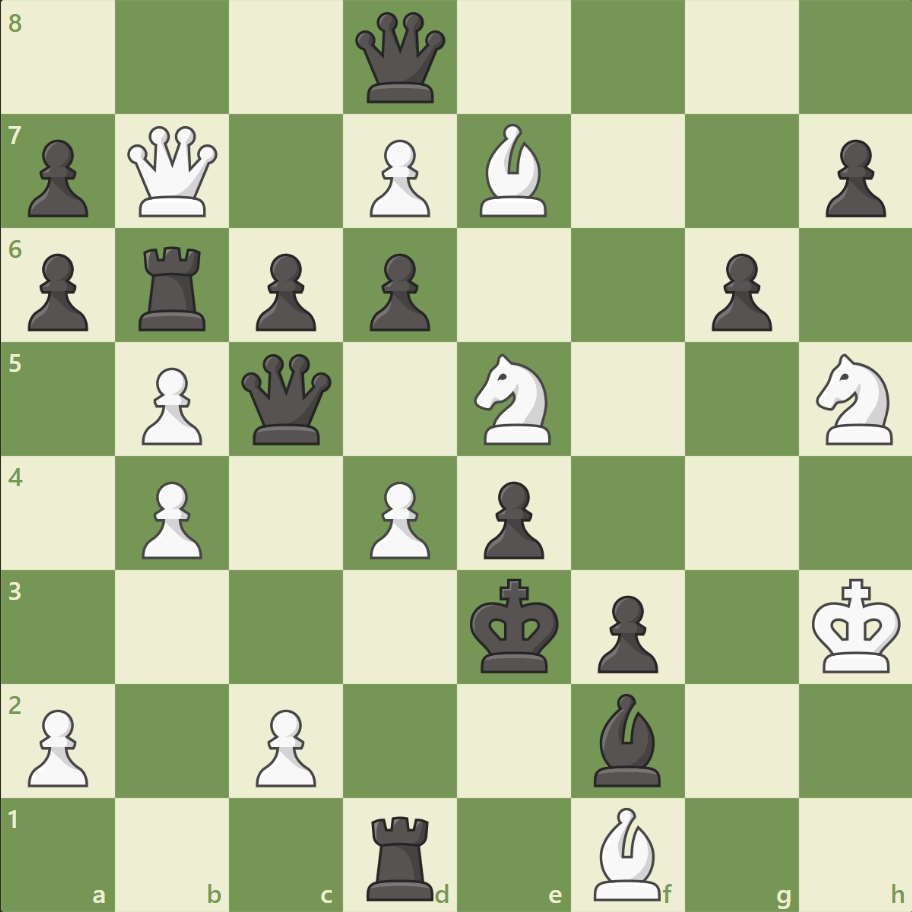B: (585, 801, 669, 904), (471, 120, 555, 222)
K: (806, 571, 906, 679)
N: (465, 348, 562, 450), (806, 348, 903, 450)
P: (133, 359, 208, 450), (133, 473, 208, 564), (20, 700, 95, 791), (247, 700, 322, 791), (361, 132, 435, 223), (361, 473, 435, 564)
Q: (124, 122, 223, 222)
b: (585, 687, 669, 790)
k: (465, 571, 565, 679)
p: (20, 132, 95, 223), (20, 246, 95, 337), (247, 246, 322, 337), (701, 246, 776, 337), (474, 473, 549, 564), (815, 132, 889, 223), (361, 246, 435, 337), (588, 586, 662, 677)
q: (237, 349, 336, 449), (351, 9, 450, 108)
r: (360, 806, 442, 904), (133, 239, 215, 336)
